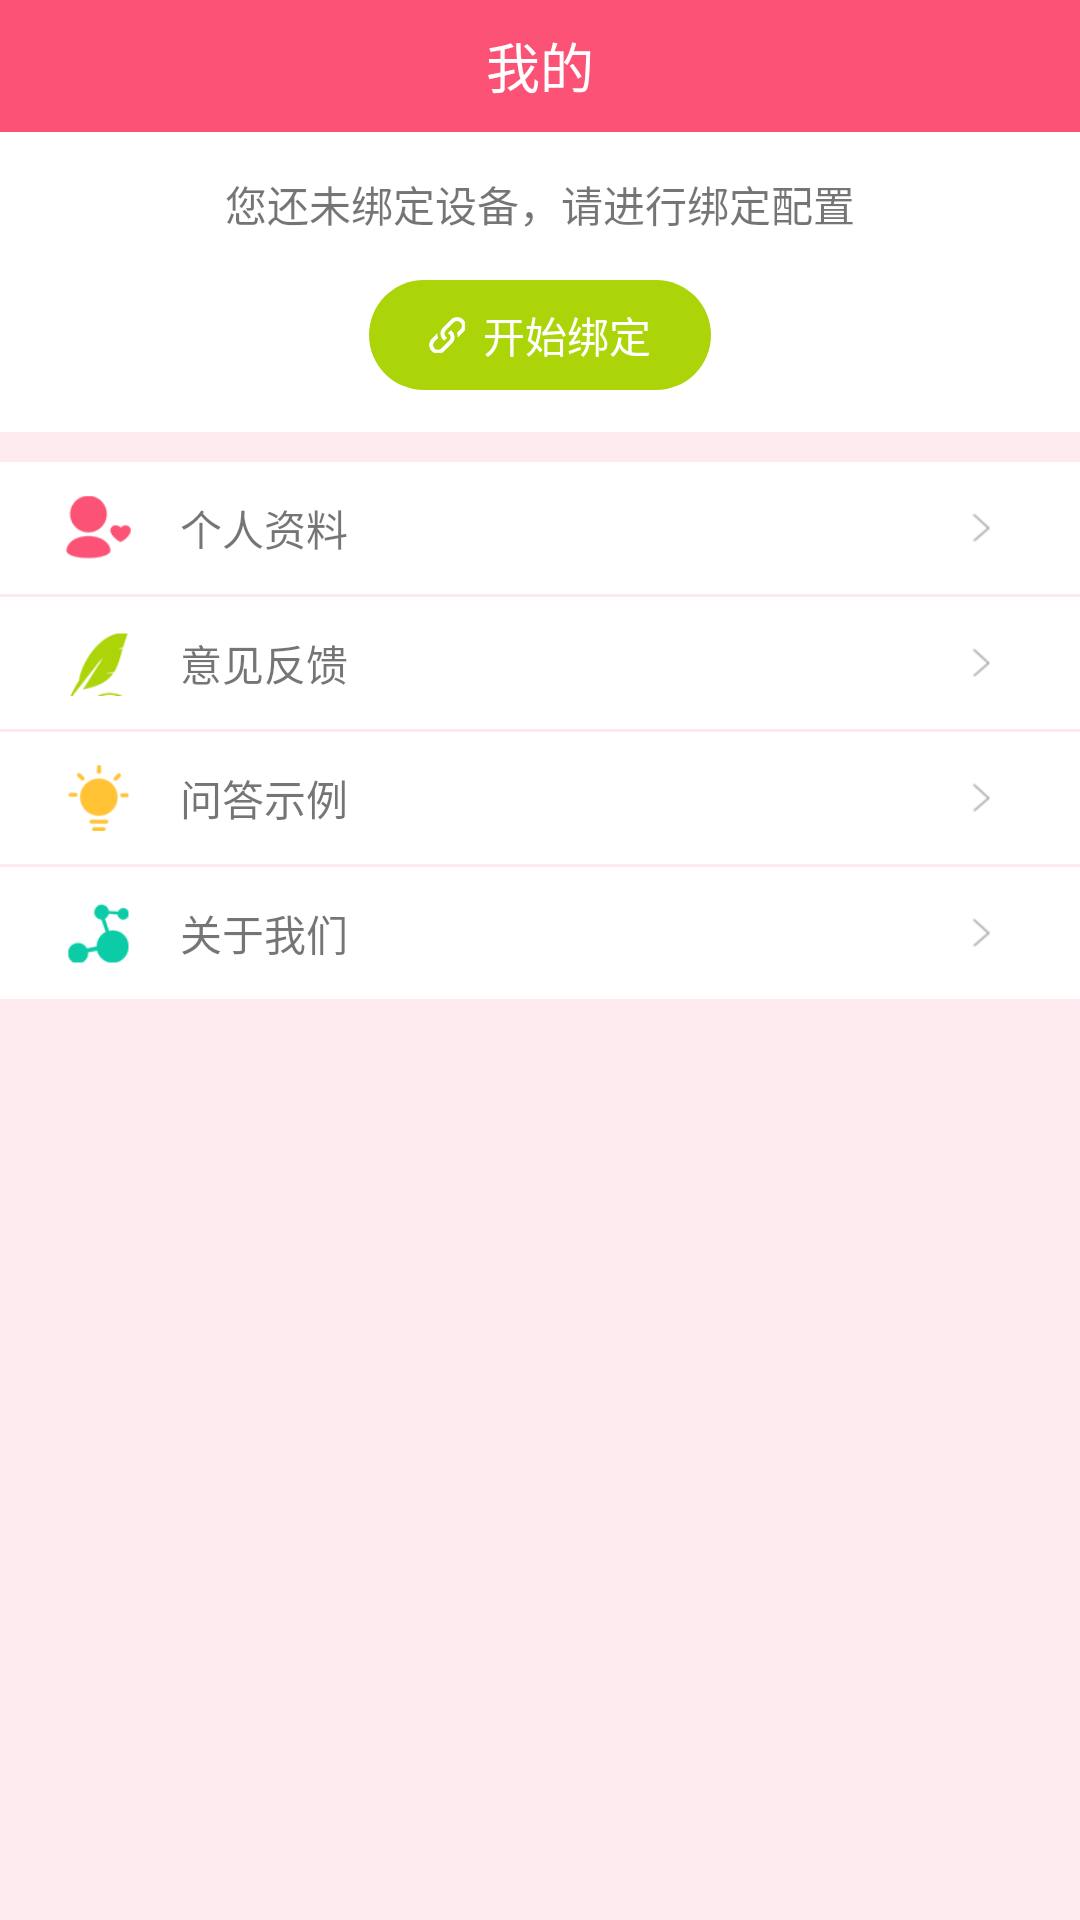

Where icons sit on this 1080 × 1920 app screen, as (x1, y1, x2, y2):
mine feedback: (70, 633, 128, 696)
mine info: (66, 496, 131, 559)
mine qa: (68, 765, 129, 831)
right arrow: (973, 514, 990, 542), (973, 649, 990, 677), (973, 784, 990, 812), (973, 919, 990, 947)
